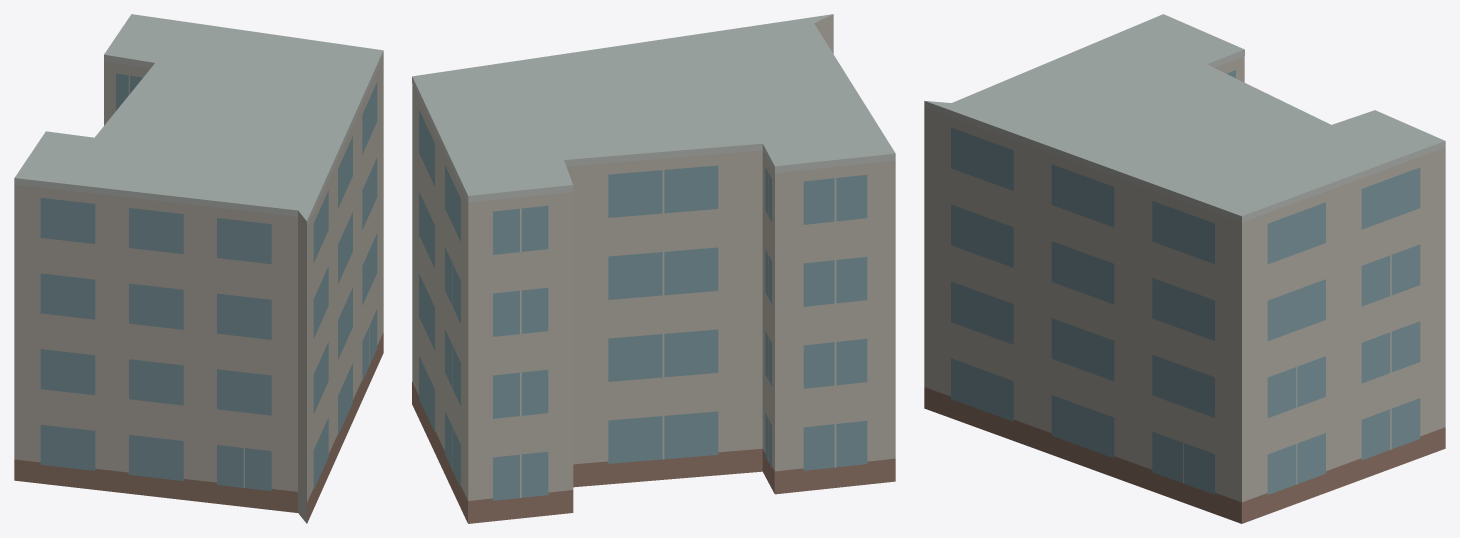
The model's file is survey-upis-32646706.glb.
3 renders of one model, left to right at view 1: azimuth 30°, elevation 25°; view 2: azimuth 150°, elevation 25°; view 3: azimuth 270°, elevation 25°, orthographic. The views are drawn at different scales.
Parts seen in each view (by area): view 1: survey-upis-32646706.tmp; view 2: survey-upis-32646706.tmp; view 3: survey-upis-32646706.tmp.
Boxes of the visible parts, x1,y1,x2,y2 form: survey-upis-32646706.tmp: [14, 14, 383, 523]; survey-upis-32646706.tmp: [412, 14, 895, 523]; survey-upis-32646706.tmp: [924, 14, 1445, 523].
Bounding box in the file's own units: 16.49 × 11.69 × 17.96.
